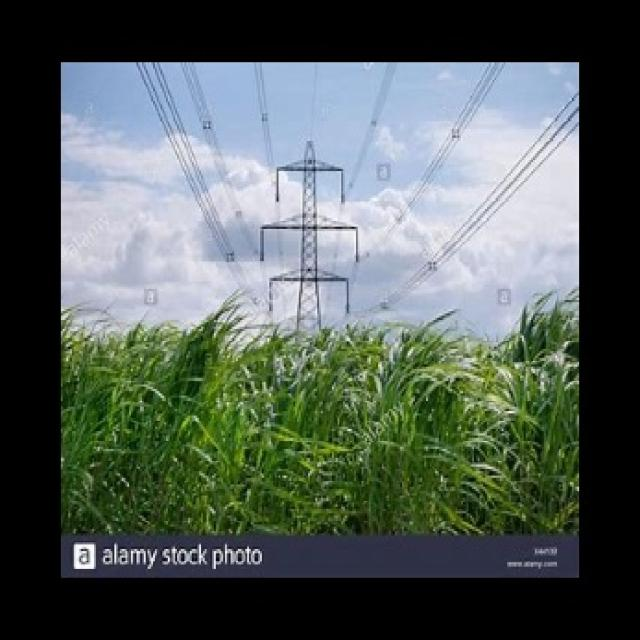utility poles: (264, 120, 366, 528)
